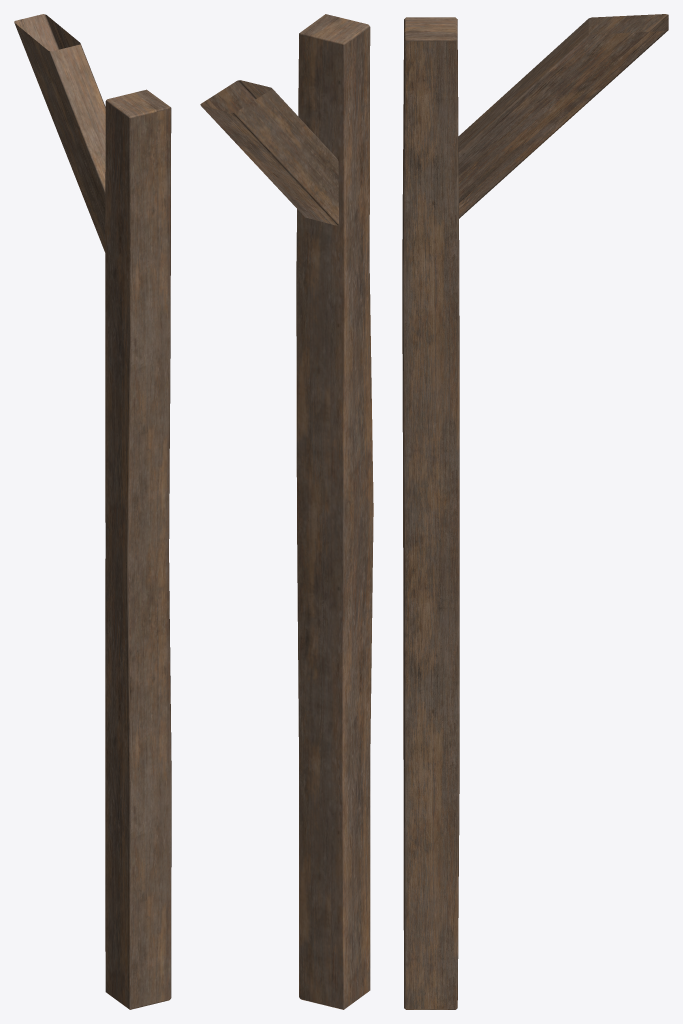
File: SM_WoodenBeamSupport.fbx
3 renders of one model, left to right at view 1: azimuth 30°, elevation 25°; view 2: azimuth 150°, elevation 25°; view 3: azimuth 270°, elevation 25°, orthographic. The views are drawn at different scales.
Visible parts, largest first — view 1: SM_WoodenBeamSupport_LOD0; view 2: SM_WoodenBeamSupport_LOD0; view 3: SM_WoodenBeamSupport_LOD0.
Part boxes in pixels (box(x1,y1,x2,y2)): SM_WoodenBeamSupport_LOD0: box(14, 14, 171, 1009); SM_WoodenBeamSupport_LOD0: box(200, 14, 373, 1009); SM_WoodenBeamSupport_LOD0: box(402, 14, 668, 1009).
Size of the model in its own units: 22.25 by 99.9 by 404.
1 material, 1 textured.
